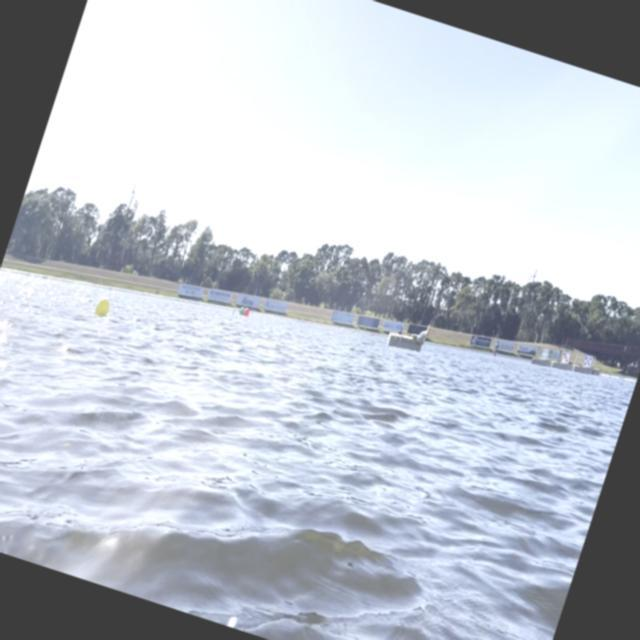buoy: (92, 290, 116, 320), (242, 306, 251, 319), (238, 304, 246, 316)
